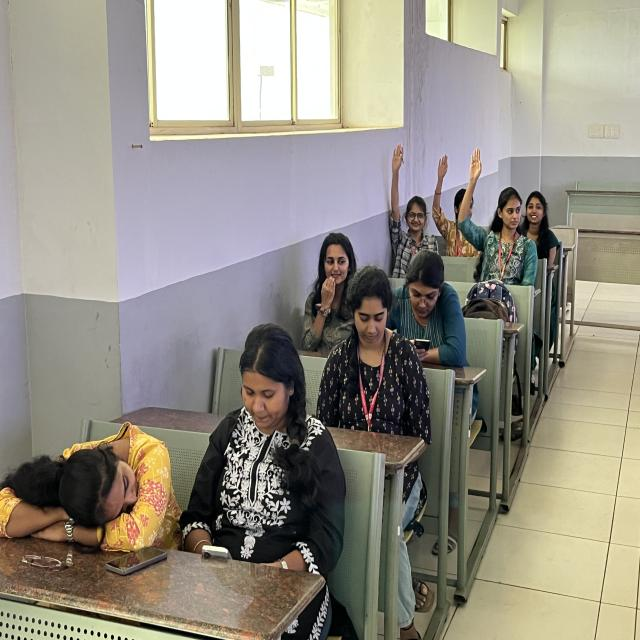Hand Rising: (455, 154, 534, 283), (390, 145, 440, 278), (435, 162, 483, 259)
Sleeping: (0, 420, 186, 554)
Using Phone: (183, 339, 332, 640), (350, 268, 434, 625), (393, 246, 469, 453)
